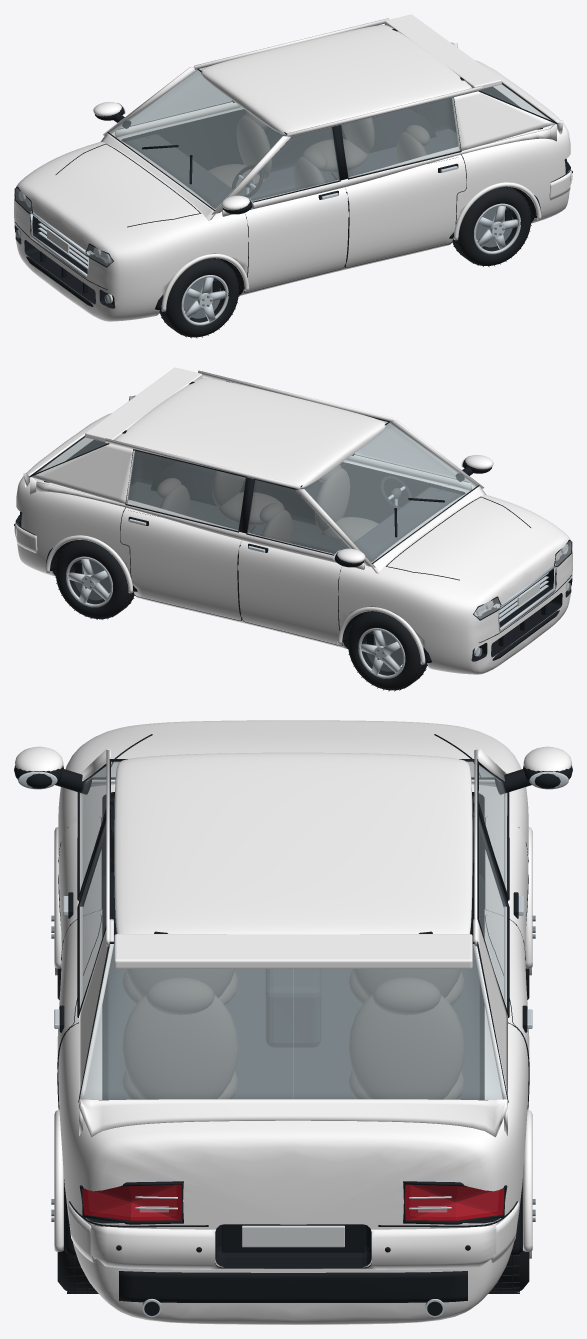
The model's file is hatchback.glb.
The picture shows the model from 3 angles, top to bottom: view 1: azimuth 30°, elevation 25°; view 2: azimuth 150°, elevation 25°; view 3: azimuth 270°, elevation 25°; orthographic projection. The views are drawn at different scales.
Parts seen in each view (by area): view 1: Original hot_hatch fourteen-section body shell, Crowned roof pressing, Raked transparent windscreen, Separate closed door panel.001, Separate closed door panel, Rear door transparent glass, Front door transparent glass, Wide hatchback C-pillar, Separate closed door panel.002, Original tyre carcass and shaped sidewalls, Original tyre carcass and shaped sidewalls.002, Sculpted instrument panel (+28 smaller); view 2: Original hot_hatch fourteen-section body shell, Crowned roof pressing, Raked transparent windscreen, Separate closed door panel.003, Separate closed door panel.002, Rear door transparent glass.001, Front door transparent glass.001, Wide hatchback C-pillar.001, Separate closed door panel, Original tyre carcass and shaped sidewalls.001, Original tyre carcass and shaped sidewalls.003, Sculpted instrument panel (+29 smaller); view 3: Original hot_hatch fourteen-section body shell, Crowned roof pressing, Rear transparent hatch glass, Interior carpet, Roof-edge spoiler airfoil, Sculpted rear lower bumper insert, Formed painted rear bumper cover, Painted rear glass sill, Contoured seat back.002, Contoured seat back.003, Center console, Separate closed door panel.002 (+33 smaller).
Part boxes in pixels (x1,y1,x2,y2): Original hot_hatch fourteen-section body shell: (14,60,570,321); Crowned roof pressing: (200,25,471,135); Raked transparent windscreen: (109,70,286,209); Separate closed door panel.001: (345,157,466,267); Separate closed door panel: (244,187,348,292); Rear door transparent glass: (341,98,459,177); Front door transparent glass: (237,127,339,201); Wide hatchback C-pillar: (452,91,555,150); Separate closed door panel.002: (138,108,241,170); Original tyre carcass and shaped sidewalls: (160,258,238,337); Original tyre carcass and shaped sidewalls.002: (453,186,531,265); Sculpted instrument panel: (124,134,241,208); Original hot_hatch fourteen-section body shell: (16,413,572,674); Crowned roof pressing: (115,378,386,487); Raked transparent windscreen: (300,422,477,562); Separate closed door panel.003: (120,510,241,620); Separate closed door panel.002: (238,540,342,645); Rear door transparent glass.001: (127,450,245,530); Front door transparent glass.001: (247,480,349,554); Wide hatchback C-pillar.001: (31,443,134,503); Separate closed door panel: (345,461,448,523); Original tyre carcass and shaped sidewalls.001: (348,611,426,690); Original tyre carcass and shaped sidewalls.003: (55,540,133,619); Sculpted instrument panel: (345,487,462,561); Original hot_hatch fourteen-section body shell: (58,720,528,1324); Crowned roof pressing: (114,752,472,934); Rear transparent hatch glass: (80,944,506,1099); Interior carpet: (107,946,479,1099); Roof-edge spoiler airfoil: (114,934,472,968); Sculpted rear lower bumper insert: (119,1271,467,1302); Formed painted rear bumper cover: (90,1223,496,1269); Painted rear glass sill: (79,1099,507,1137); Contoured seat back.002: (122,995,238,1099); Contoured seat back.003: (348,995,464,1099); Center console: (265,969,321,1047); Separate closed door panel.002: (479,816,528,1049).
Bounding box in the file's own units: 4.1 × 1.46 × 2.11.
Materials: 11 (10 with a texture image).
